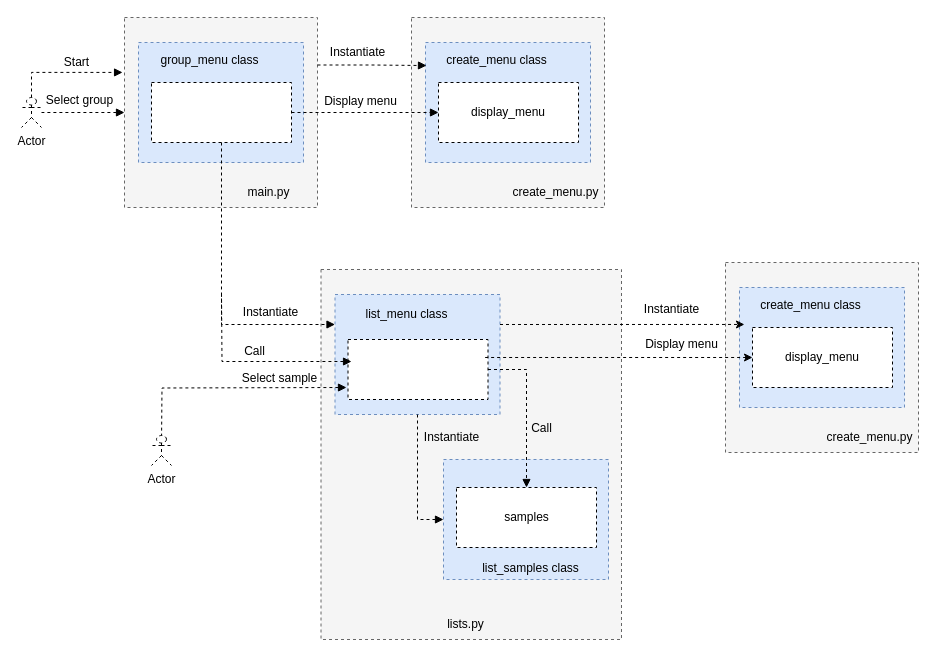
Image size: 941x657. Some labels were removed from this diagram. Here are the shapes that lost their labels. From the top down, the centre of each, then its label:
At point (221, 112): "group_selection_menu".
At point (417, 369): "list_selection_menu".
